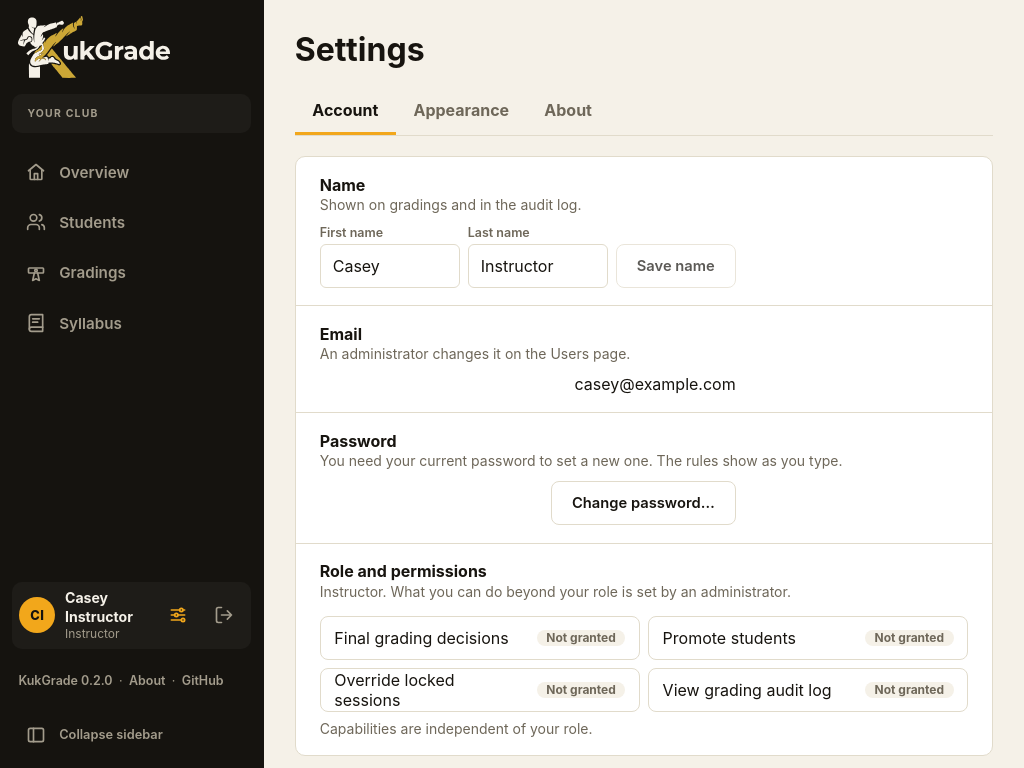
Test: Settings: Account › can be cancelled without changing anything
Click the button "Change password…" at coordinates (643, 503), box [551, 481, 736, 525]
(page scrolled)
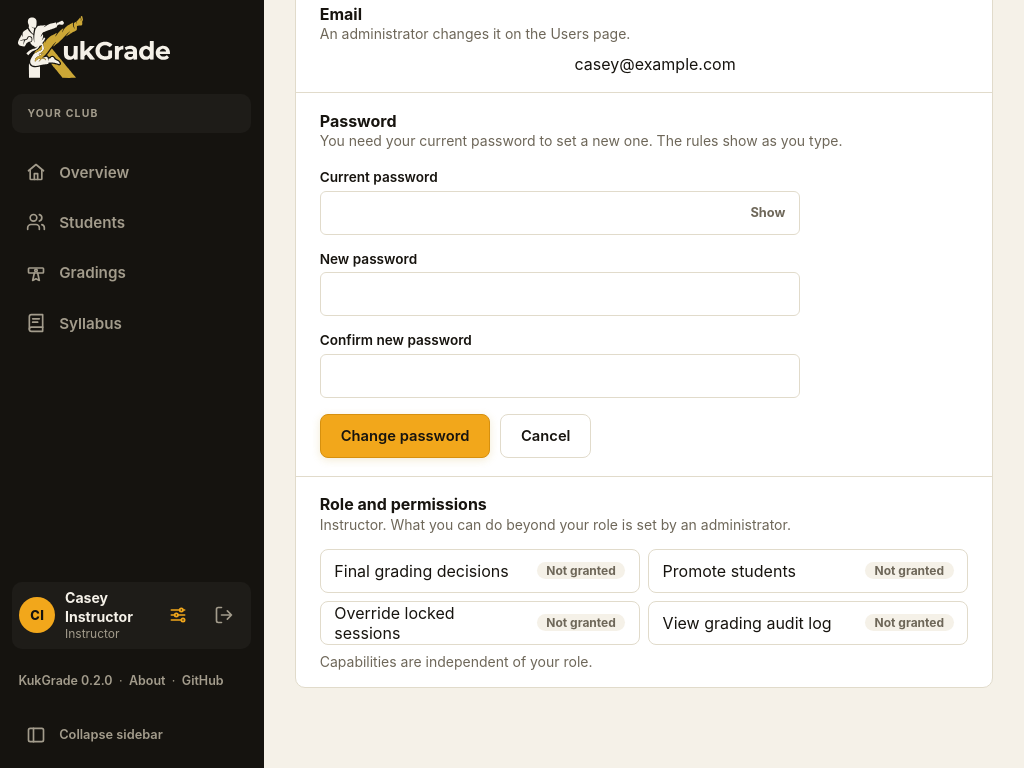
Click the button "Cancel" at coordinates (546, 436), box [500, 414, 591, 458]
(page scrolled)
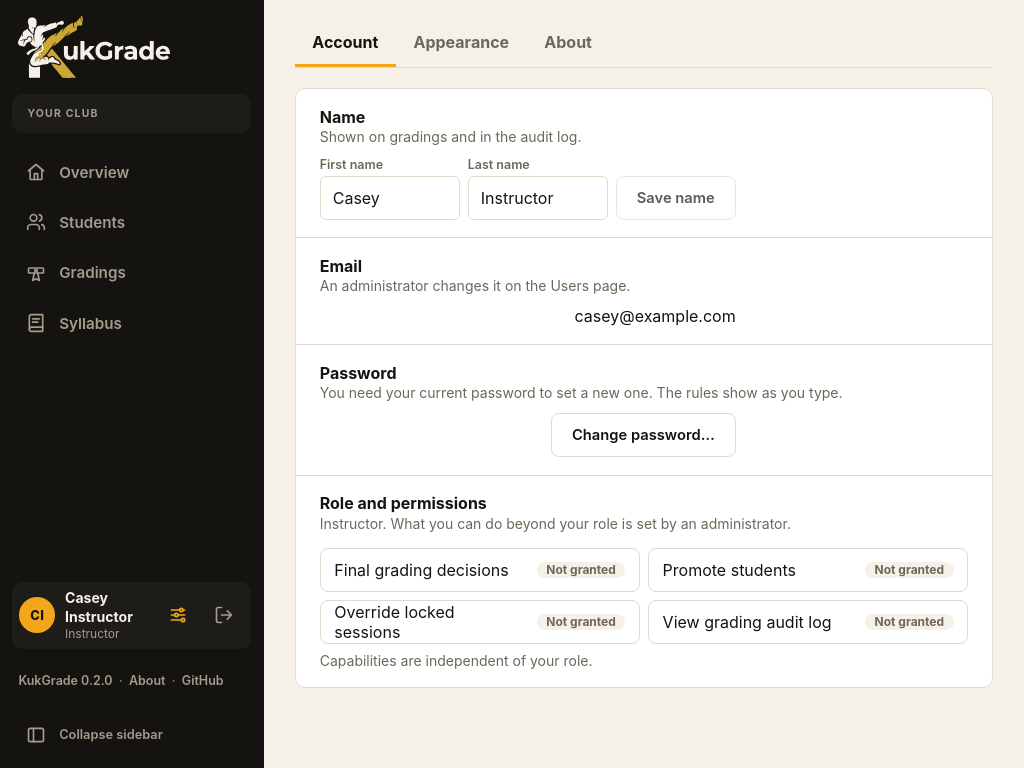
Result: the button "Change password…" is shown at [551, 413, 736, 457]
